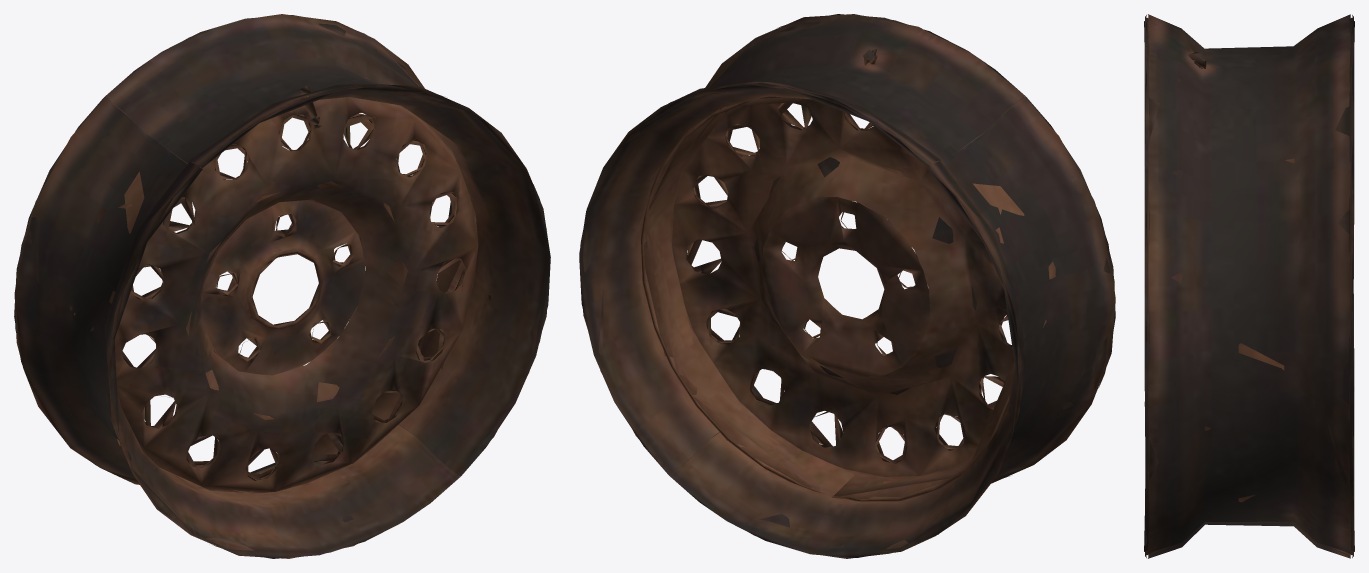
File: rim.glb
The picture shows the model from 3 angles, left to right: view 1: azimuth 30°, elevation 25°; view 2: azimuth 150°, elevation 25°; view 3: azimuth 270°, elevation 25°; orthographic projection. The views are drawn at different scales.
Parts seen in each view (by area): view 1: rusted_wheel_rim_01; view 2: rusted_wheel_rim_01; view 3: rusted_wheel_rim_01.
Boxes of the visible parts, <box> form: rusted_wheel_rim_01: <box>14,14,550,558</box>; rusted_wheel_rim_01: <box>579,14,1115,558</box>; rusted_wheel_rim_01: <box>1144,14,1354,558</box>.
Size of the model in its own units: 0.4032 by 0.4018 by 0.1555.
Materials: 1 (1 with a texture image).
